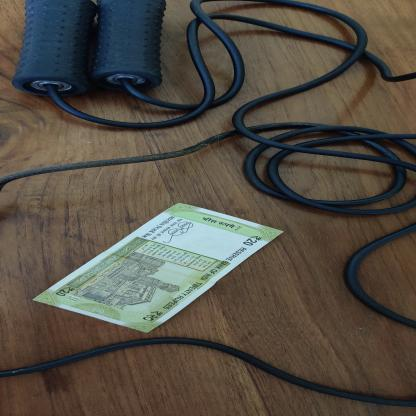New20Back: (29, 200, 289, 335)
